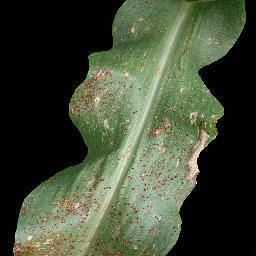Corn_Common_Rust: (10, 66, 124, 256), (125, 100, 227, 256), (105, 18, 144, 36), (125, 73, 149, 100), (152, 65, 162, 78), (176, 88, 187, 94)
